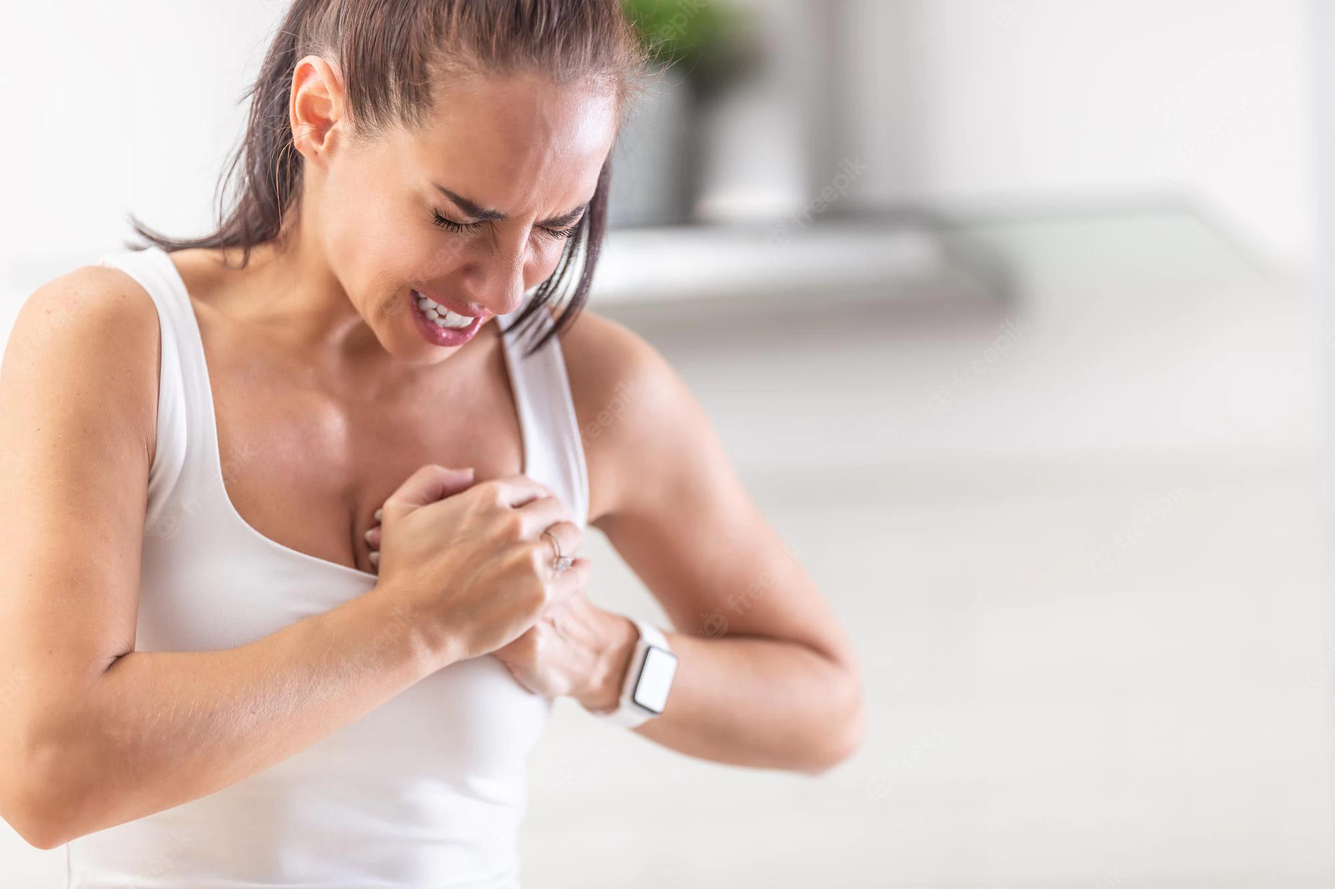pain: (408, 161, 607, 261)
